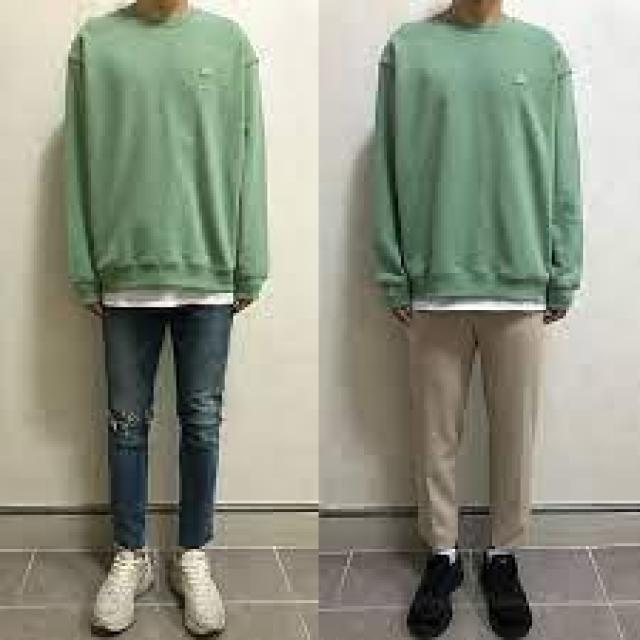pants: (97, 290, 233, 555), (406, 310, 550, 555)
sweater: (40, 1, 276, 320), (364, 13, 580, 317)
